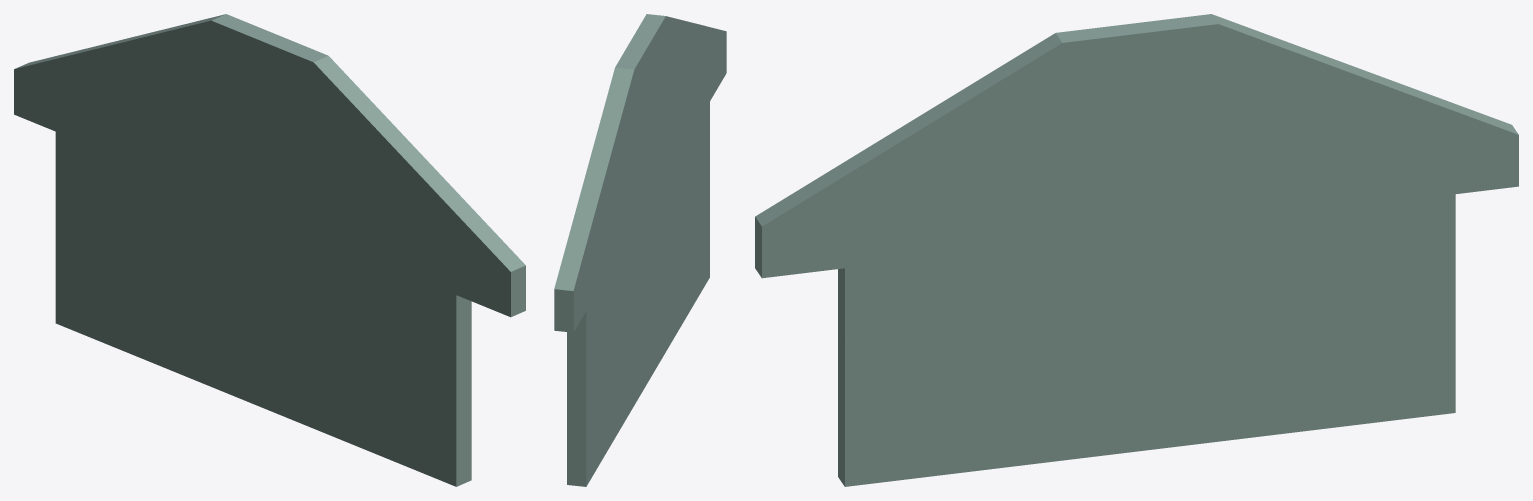
The picture shows the model from 3 angles, left to right: view 1: azimuth 30°, elevation 25°; view 2: azimuth 150°, elevation 25°; view 3: azimuth 270°, elevation 25°; orthographic projection. The views are drawn at different scales.
Parts seen in each view (by area): view 1: Cube.220; view 2: Cube.220; view 3: Cube.220.
Boxes of the visible parts, x1,y1,x2,y2 form: Cube.220: [14, 14, 525, 486]; Cube.220: [554, 14, 726, 486]; Cube.220: [755, 14, 1518, 486].
Bounding box in the file's own units: 20.46 × 39.14 × 64.88.
